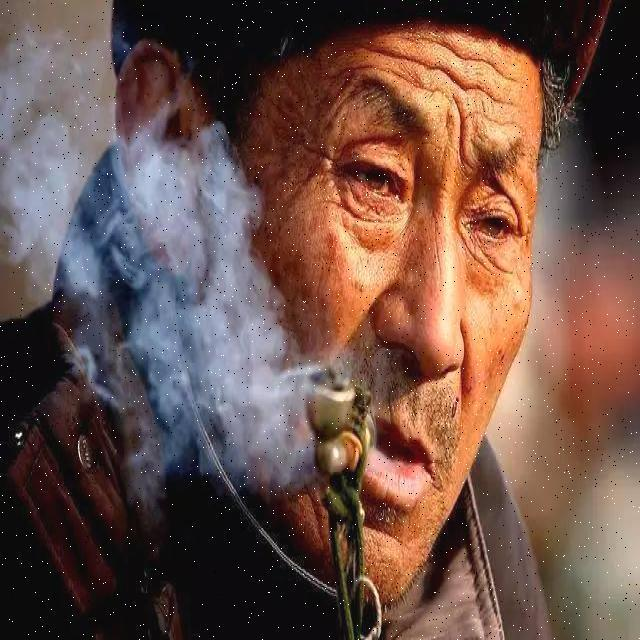smoke: (4, 63, 310, 494)
